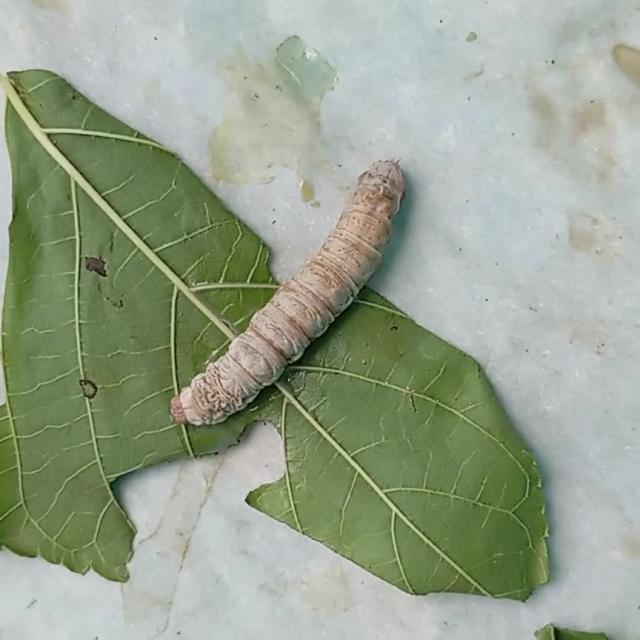Grasserie: (162, 146, 422, 433)
